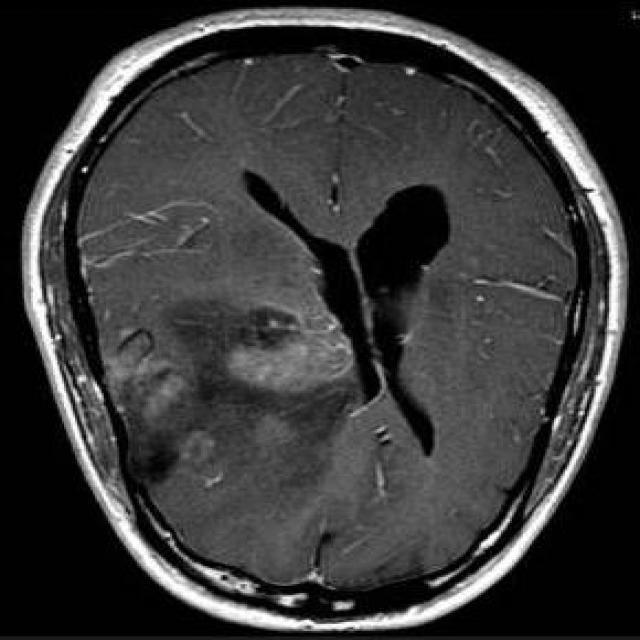Tumor: (210, 317, 360, 401)
